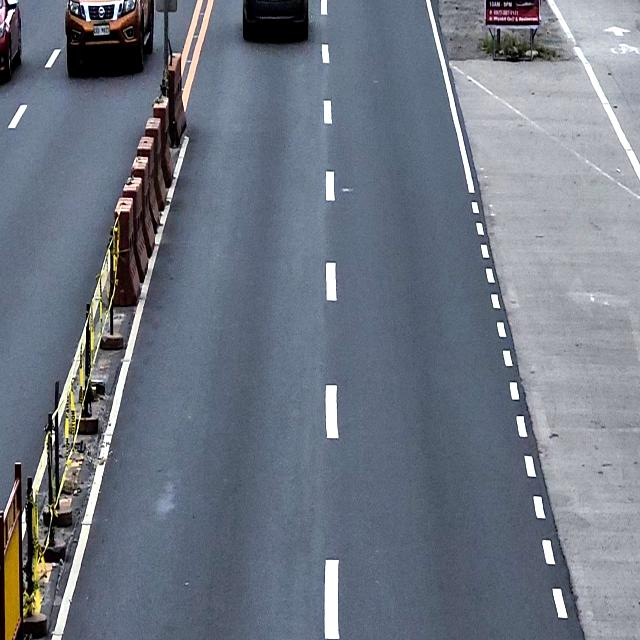Car: (66, 0, 156, 76), (0, 0, 24, 87)
License-Plate: (91, 24, 110, 36)
